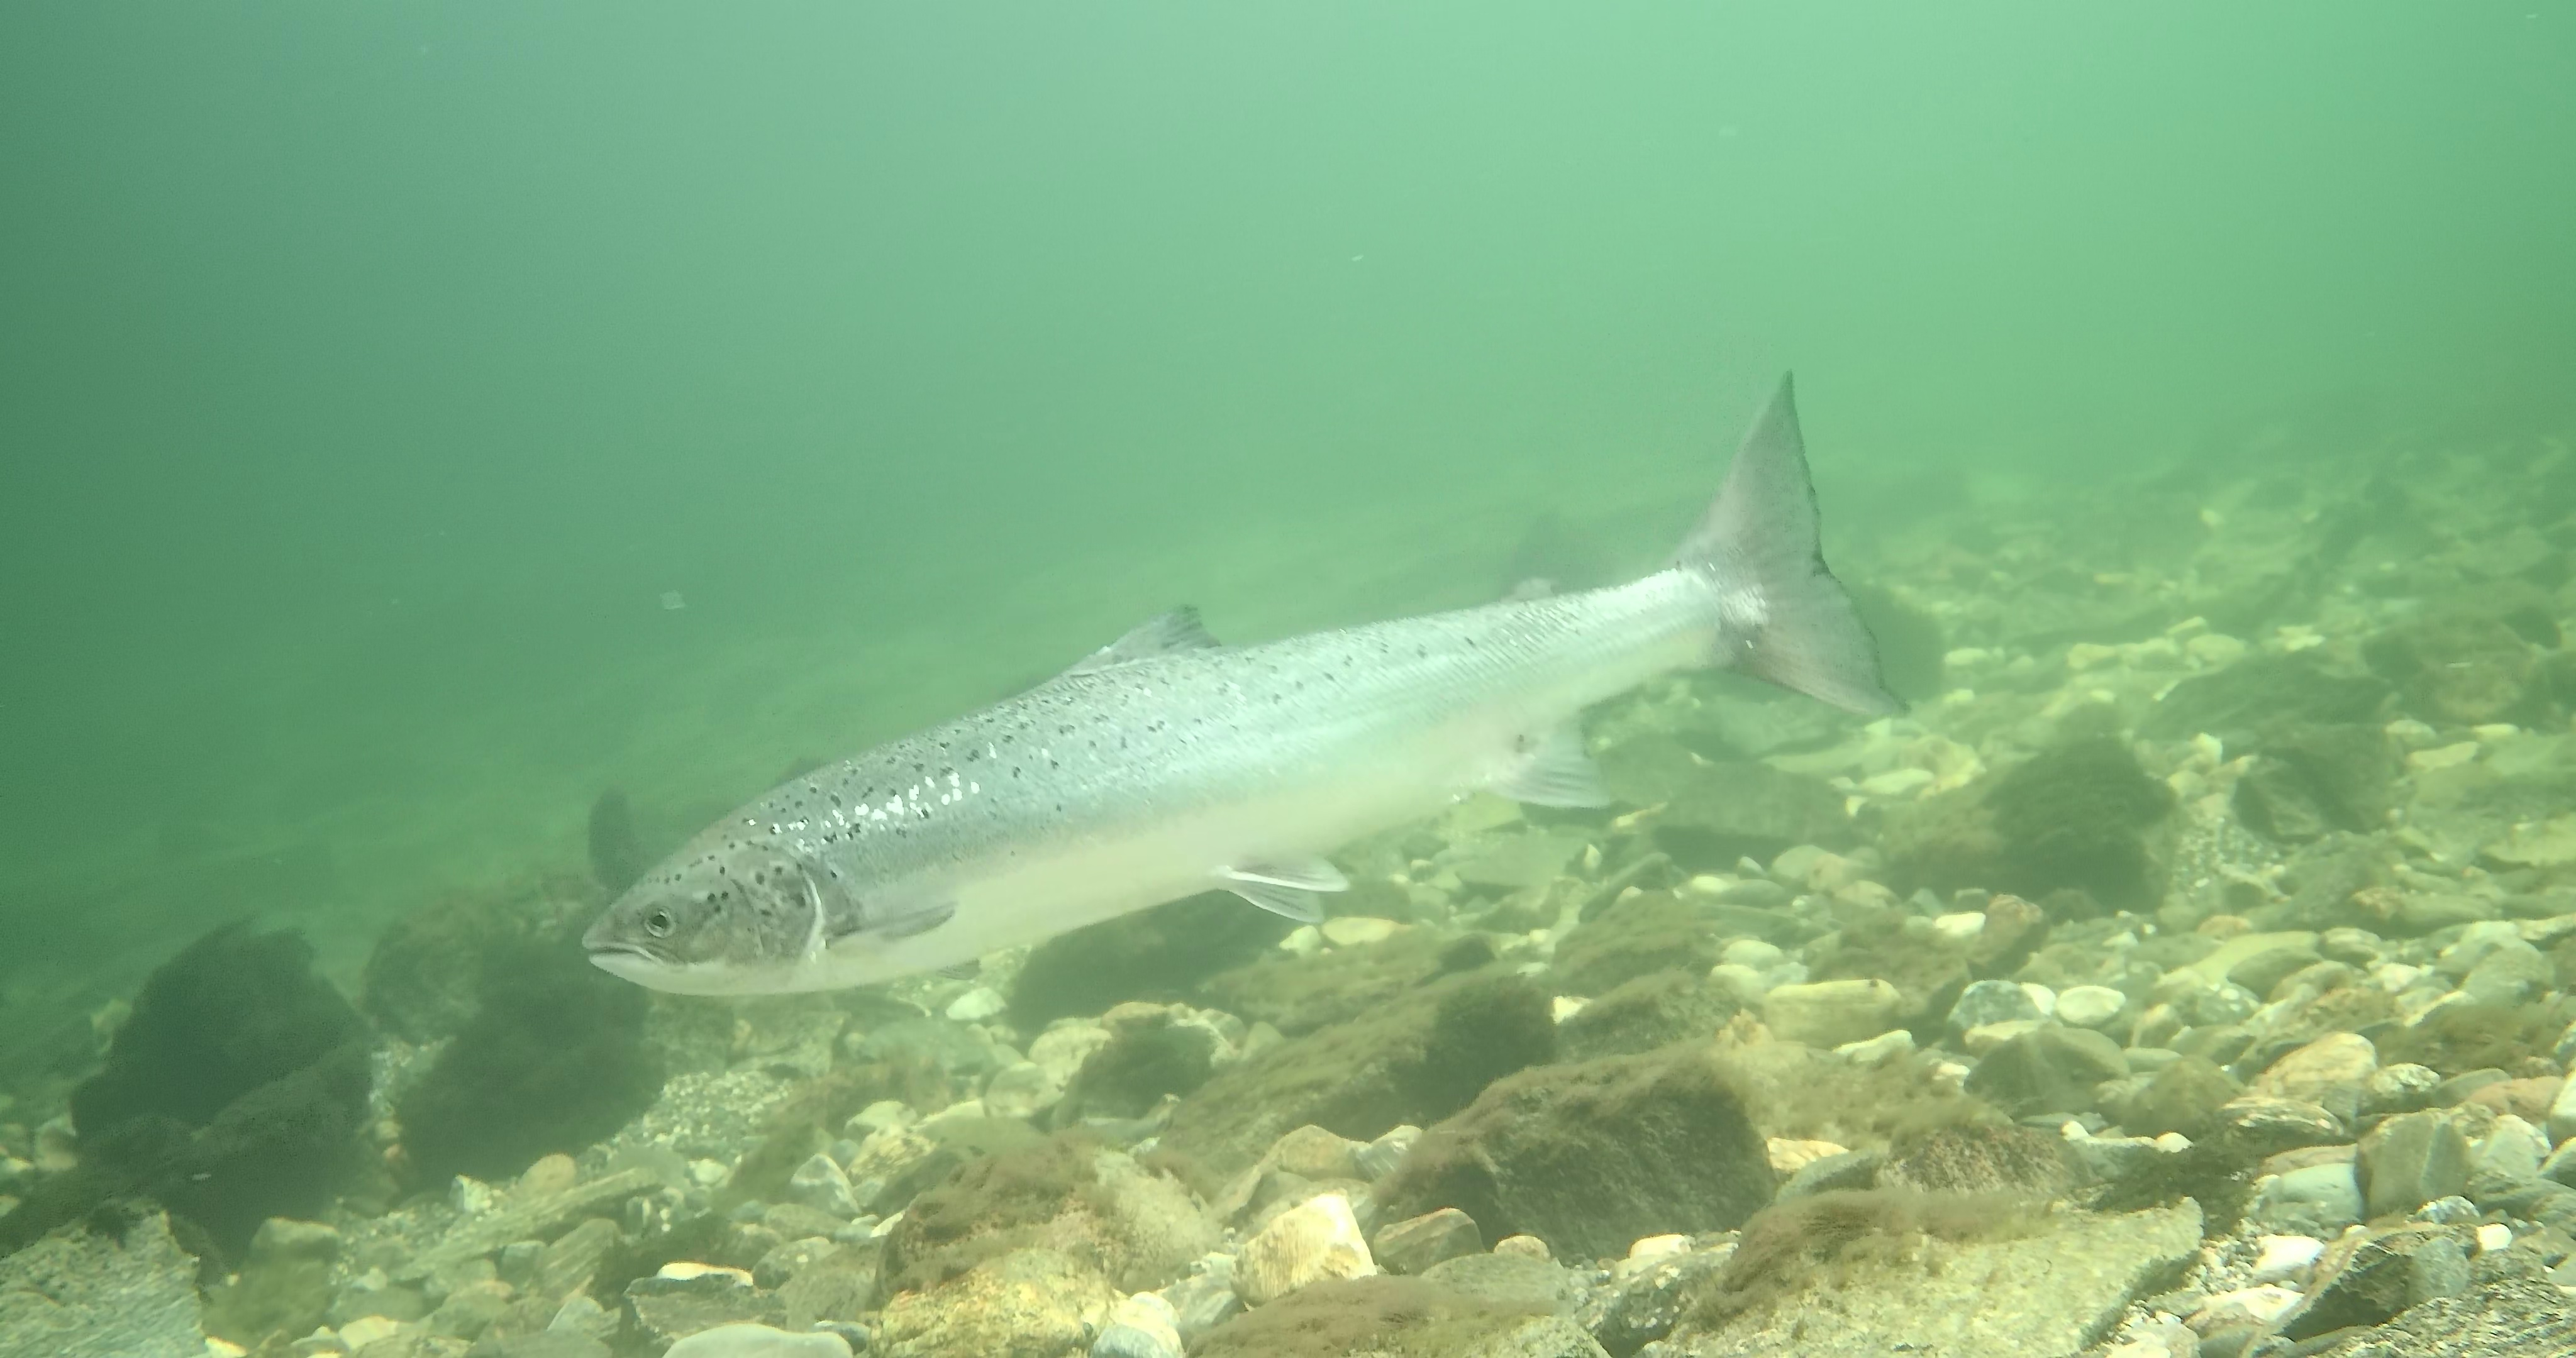salmon: (571, 365, 1918, 1004)
